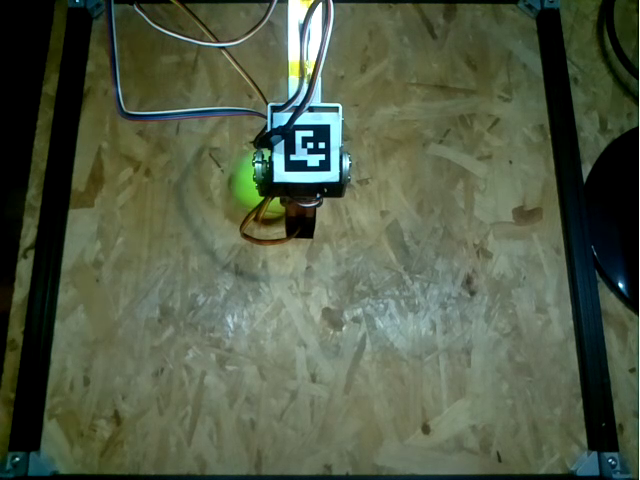tennis_ball: (227, 149, 283, 220)
